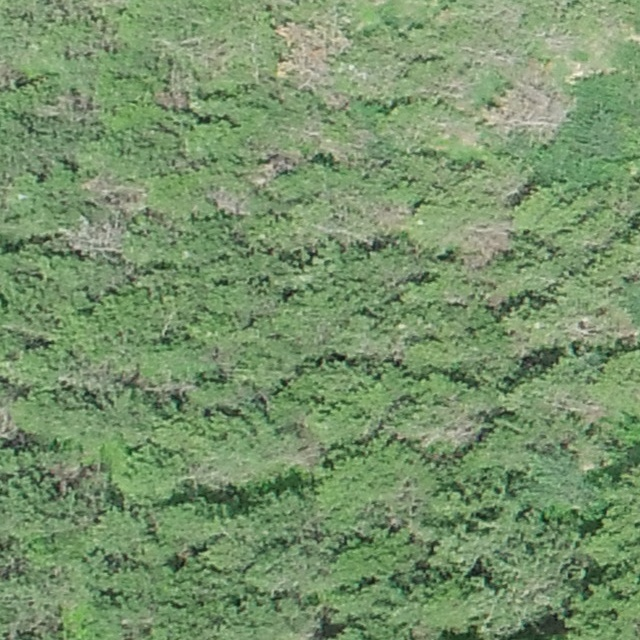unhealthy: (487, 81, 569, 138), (273, 19, 343, 85), (60, 218, 127, 258), (82, 172, 148, 212), (462, 219, 512, 265), (253, 146, 303, 182), (208, 186, 248, 217), (0, 400, 20, 443)
